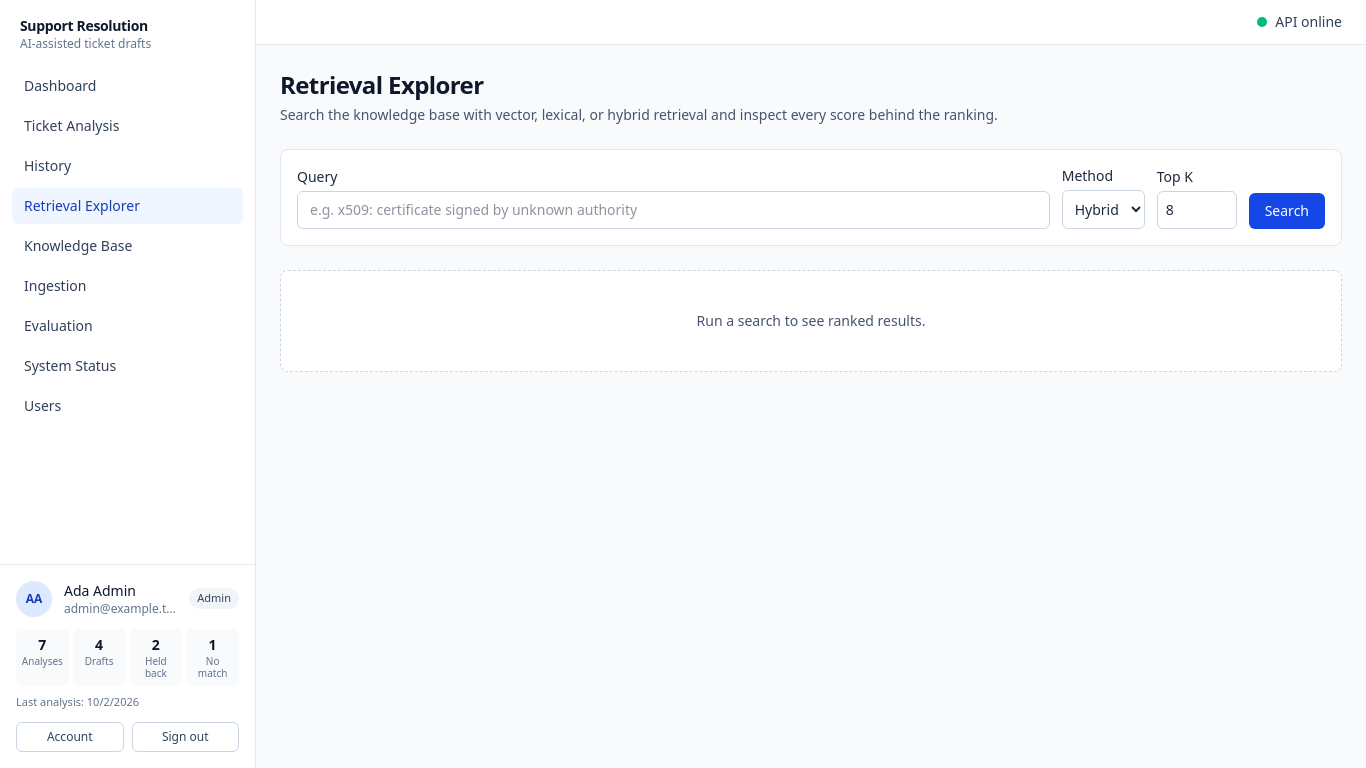
Test case: Retrieval Explorer › explains degraded search
The image size is (1366, 768).
Type "x509" into the field labelled "Query".
click(673, 210); type("x509")  # box left=297, top=191, right=1050, bottom=229
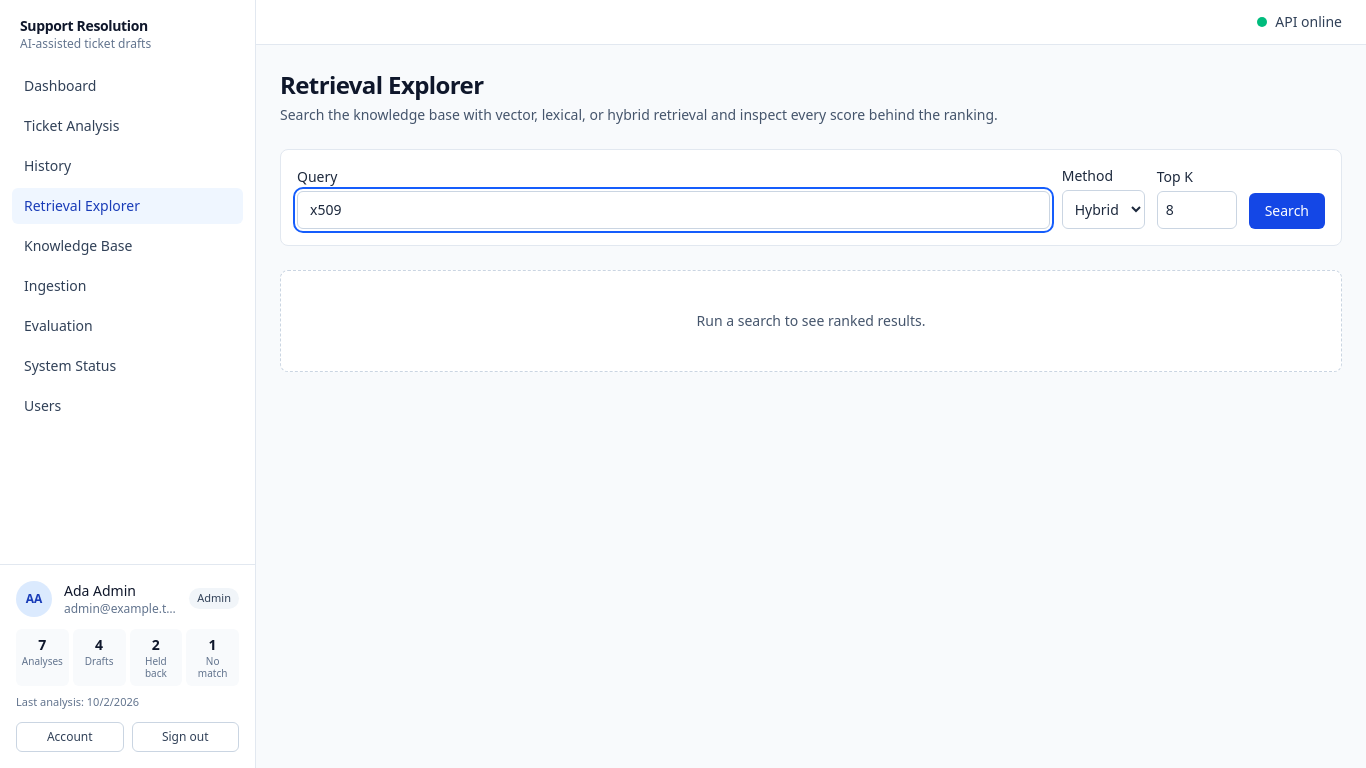
Click the button "Search".
click(1287, 211)  # box left=1249, top=193, right=1325, bottom=229
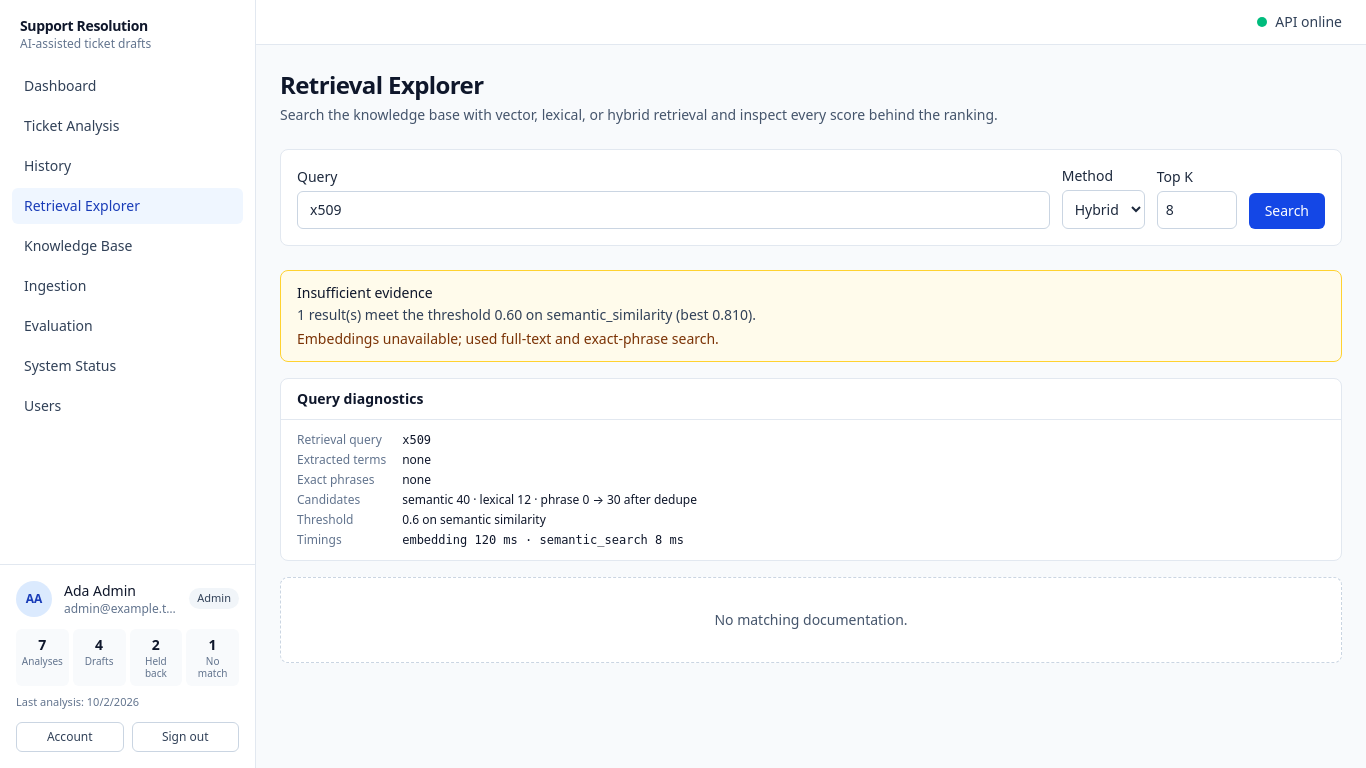
Expected: the text "Insufficient evidence" is shown, left=297, top=283, right=433, bottom=302
Expected: the text "Embeddings unavailable" is shown, left=297, top=329, right=719, bottom=348
Expected: the text "No matching documentation." is shown, left=280, top=577, right=1342, bottom=663
